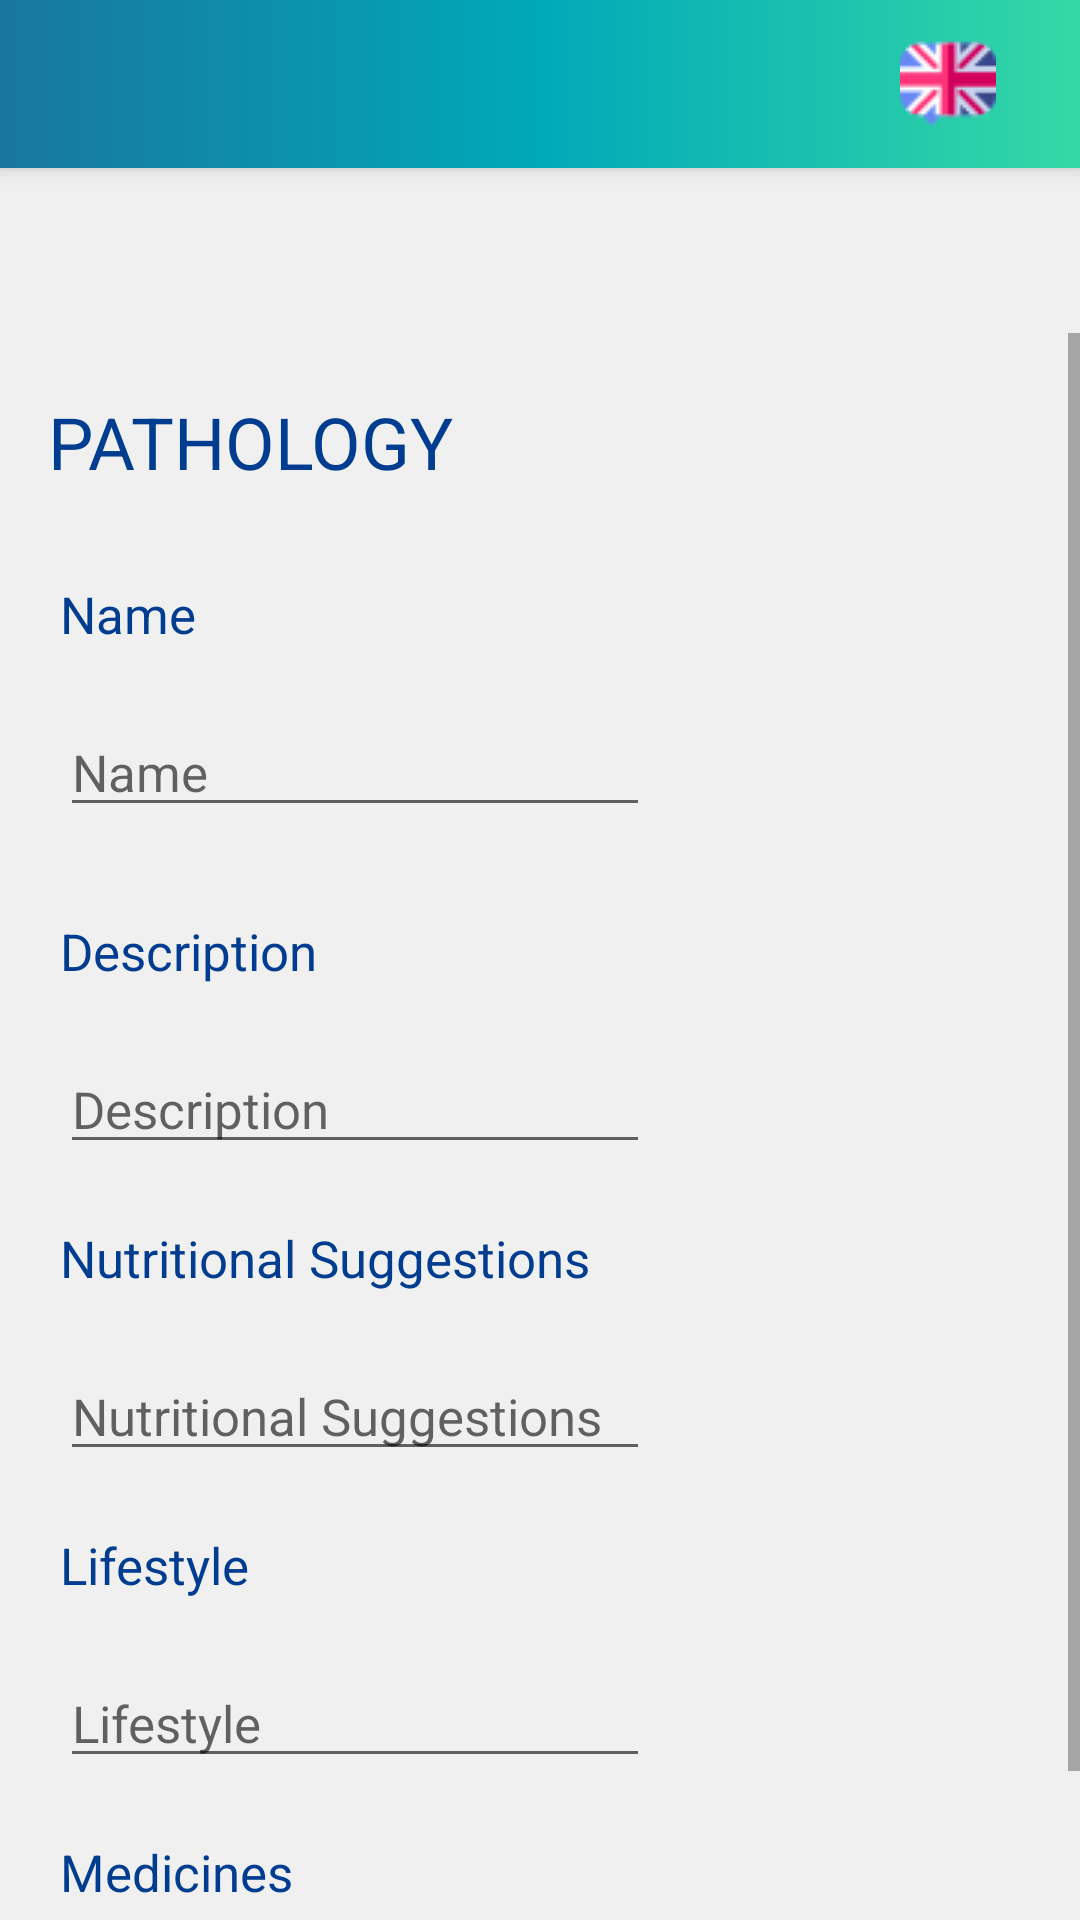

Icon bounding boxes for this 1080 × 1920 phone screenshot, format {"left": x1, "top": y1, "right": x2, "bottom": y2}:
lang: {"left": 900, "top": 41, "right": 996, "bottom": 125}
